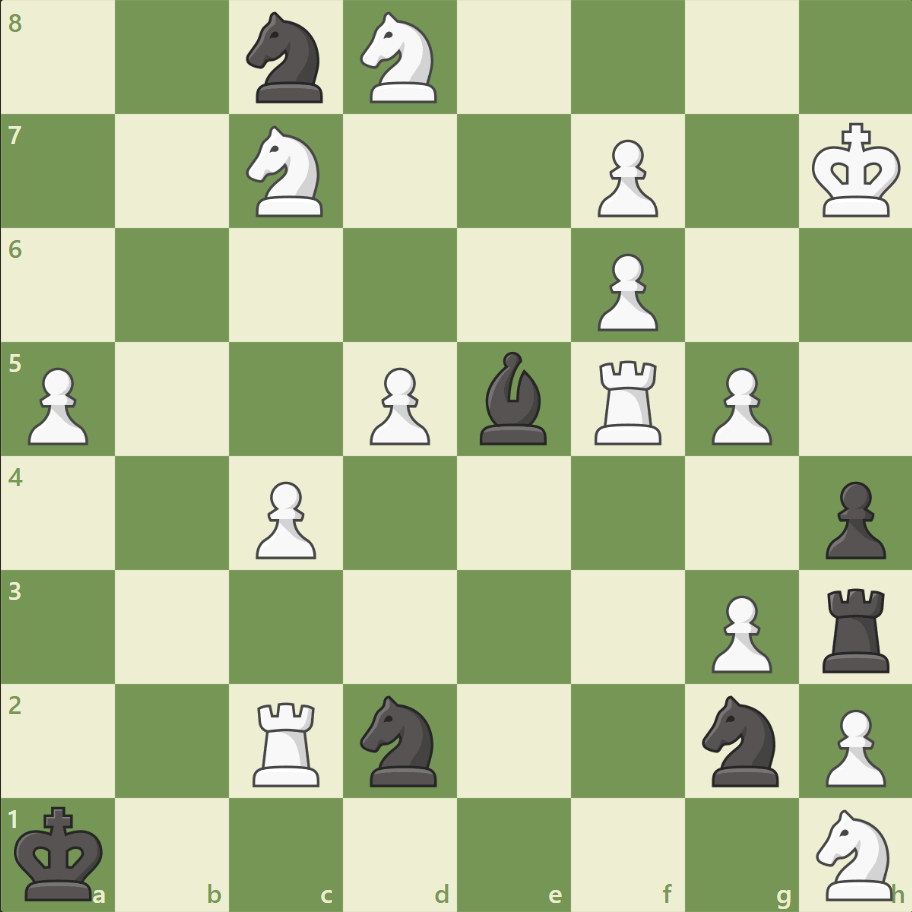K: (806, 117, 906, 225)
N: (351, 7, 449, 110), (238, 121, 335, 223), (806, 802, 903, 904)
P: (20, 359, 95, 450), (701, 359, 776, 450), (247, 473, 322, 564), (701, 586, 776, 677), (588, 132, 662, 223), (588, 246, 662, 337), (361, 359, 435, 450), (815, 700, 889, 791)
R: (587, 352, 670, 449), (246, 693, 329, 790)
b: (471, 347, 555, 449)
k: (11, 798, 111, 906)
n: (351, 688, 449, 791), (238, 7, 335, 110), (692, 688, 789, 791)
p: (815, 473, 889, 564)
r: (814, 579, 897, 676)
